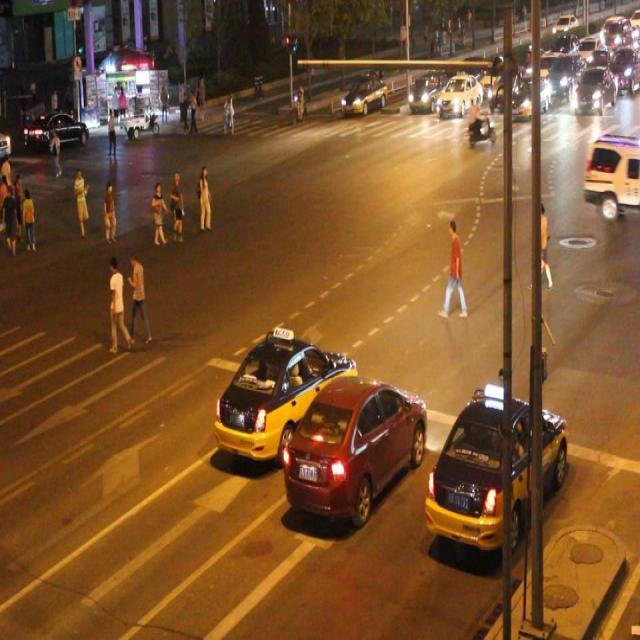car: (428, 392, 567, 551), (287, 378, 424, 520), (215, 333, 355, 462), (583, 131, 640, 219), (436, 74, 481, 116), (342, 76, 385, 115), (409, 72, 445, 116)
